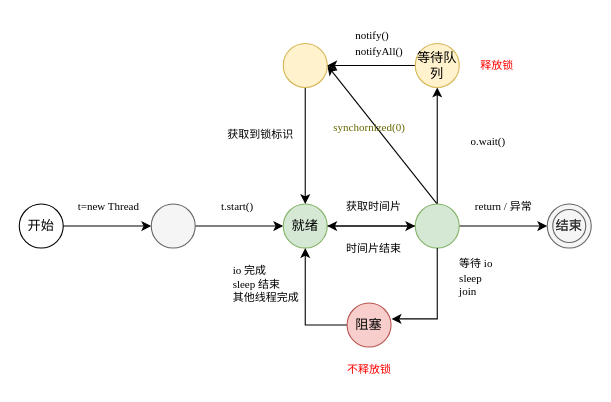
The diagram is 611 pixels wide and 402 high, and some of its shapes have lost their labels. Here are the shapes that lost their labels. From the top down, the box of each, then its label:
(282, 42, 327, 87): 锁池
(150, 203, 195, 248): 创建
(414, 203, 459, 248): 运行
